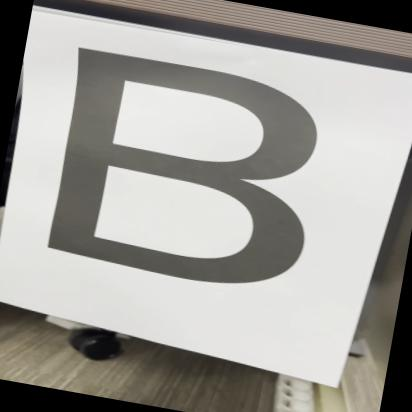seat: (6, 23, 366, 314)
